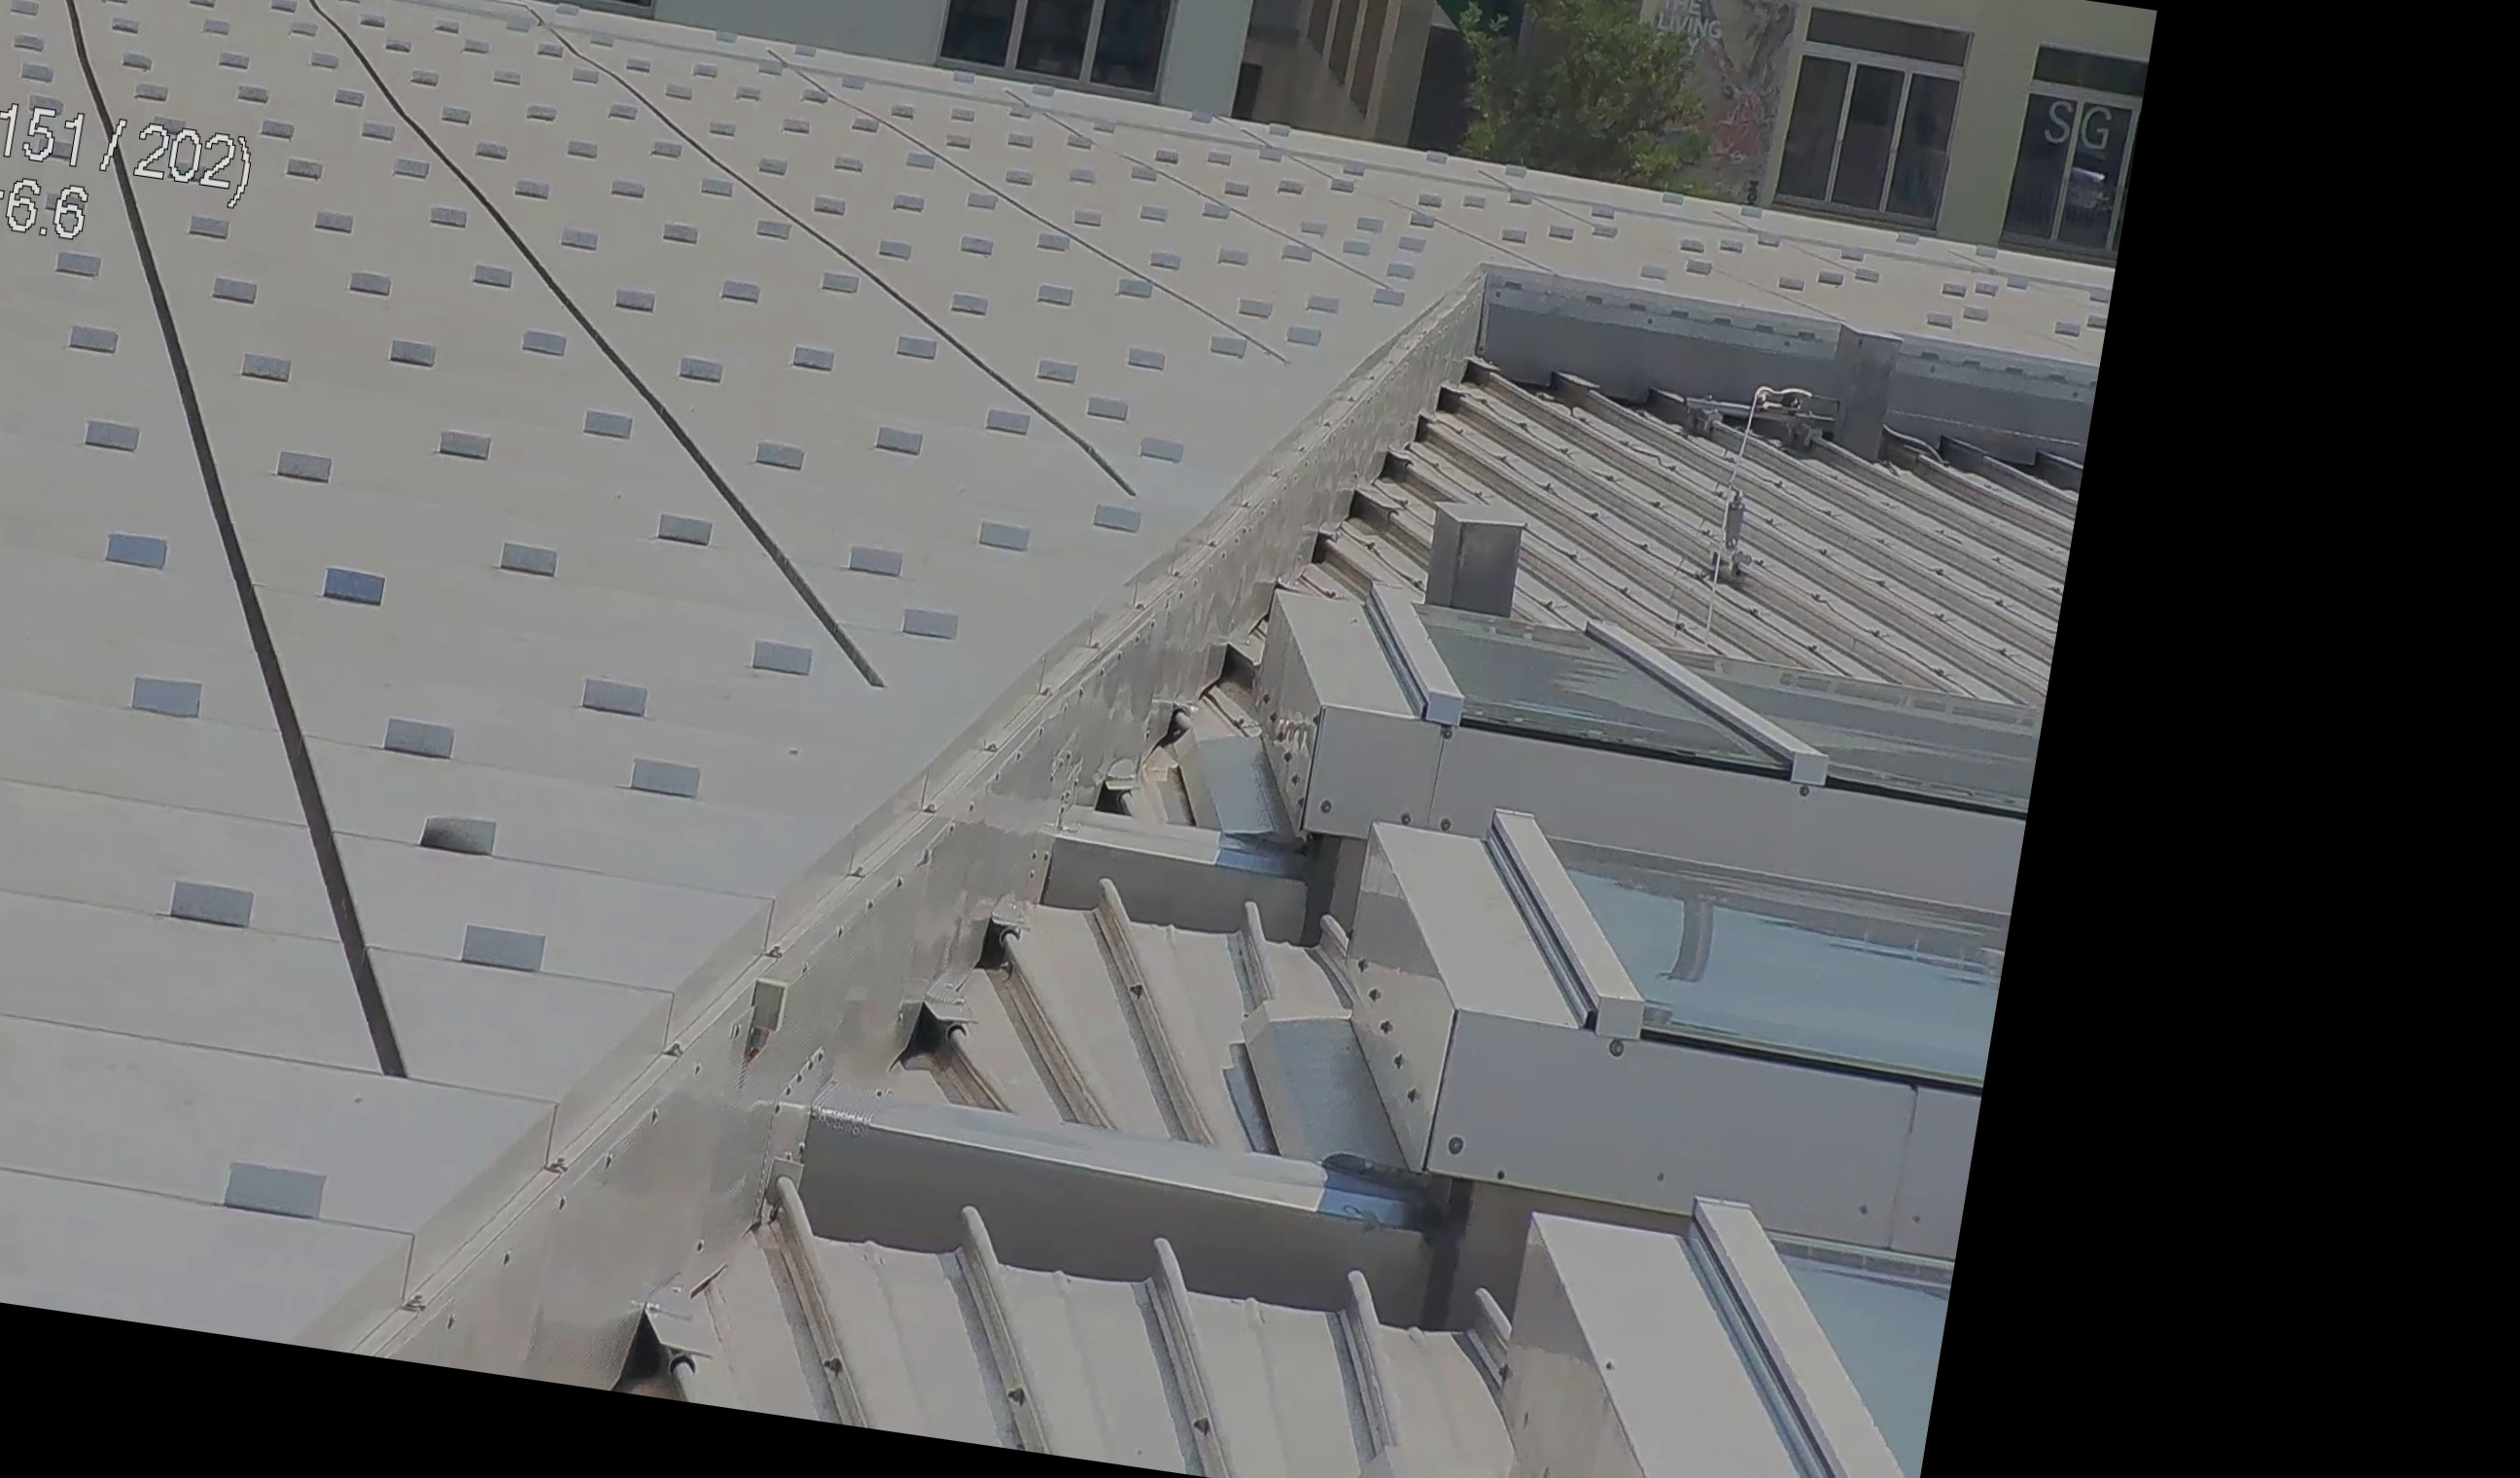Other: (605, 1293, 725, 1425)
